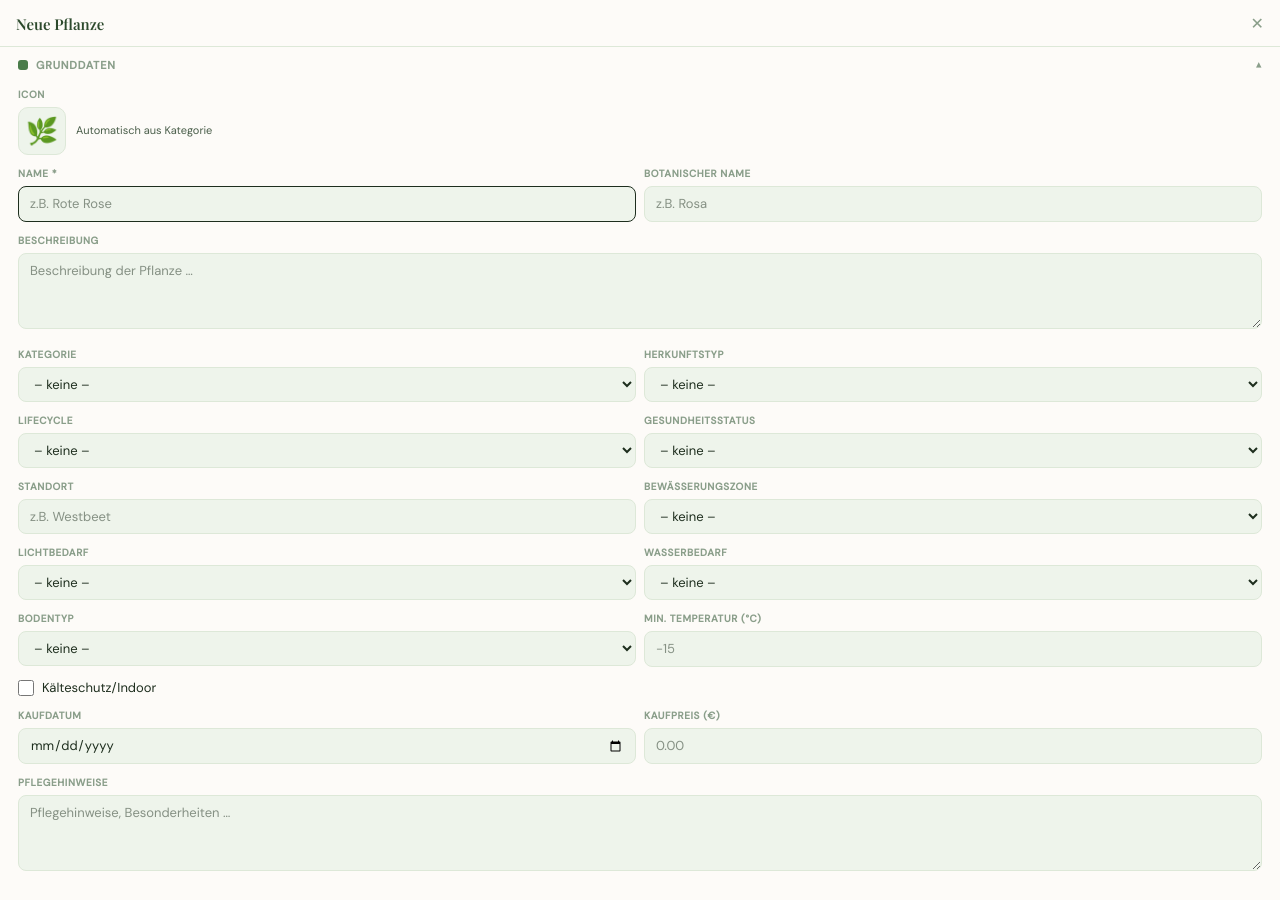
Test case: PlantEditDialog — icon picker (AC #3) › auto-suggests icon when category changes (AC #3)
The width and height of the screenshot is (1280, 900).
Select "Baum" in the dropdown with test id "field-category". click: (327, 384)
box: [18, 367, 636, 402]
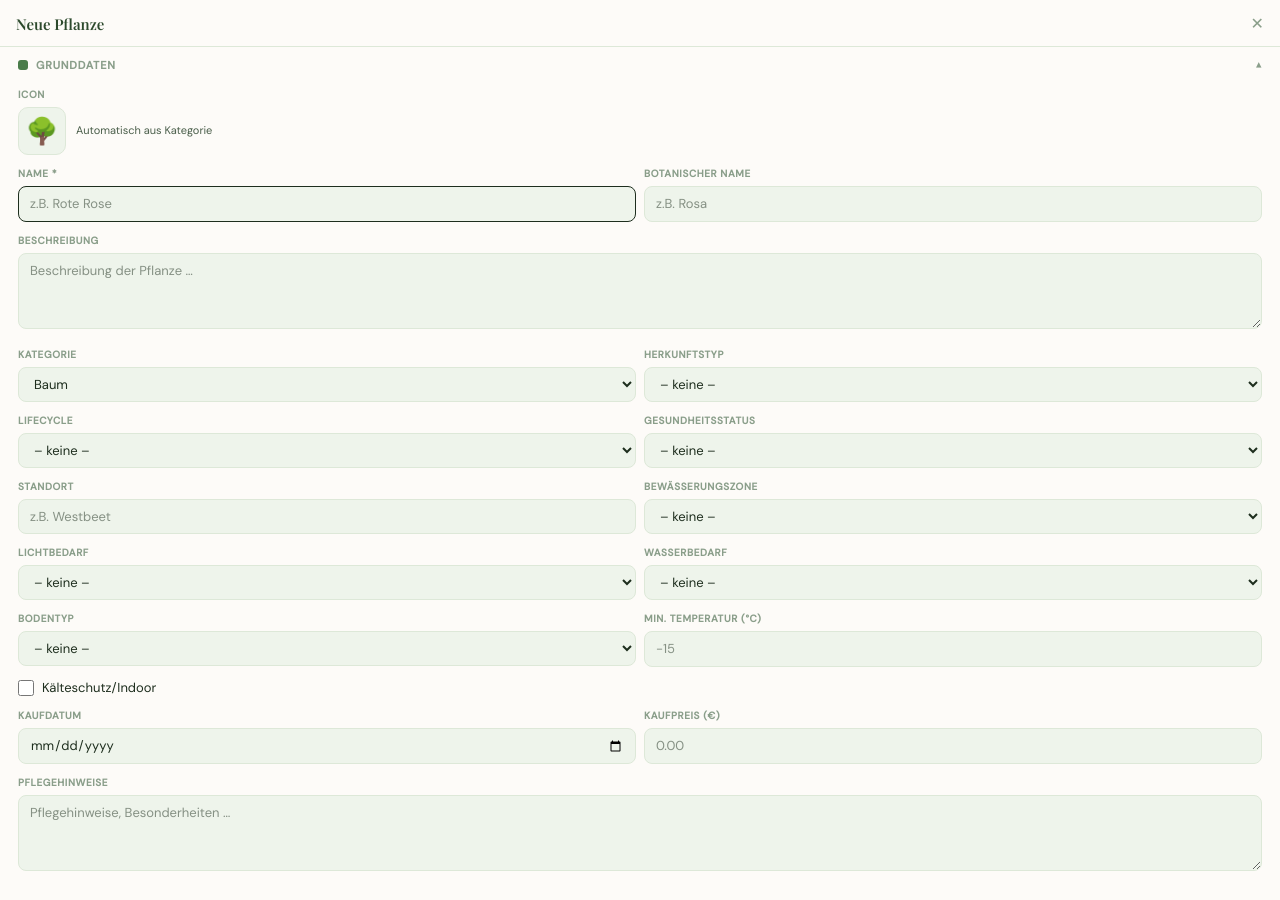
expect the button with test id "icon-preview" reads "🌳": met, box [18, 107, 66, 155]
